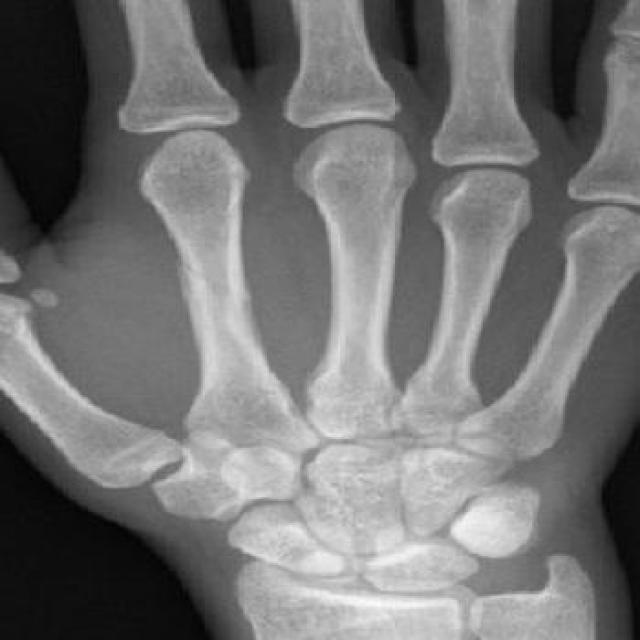Fracture: (152, 250, 256, 311)
